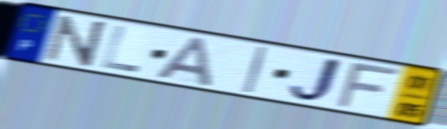A: (153, 35, 215, 89)
F: (333, 61, 404, 110)
I: (241, 44, 270, 95)
J: (285, 55, 346, 105)
L: (99, 24, 141, 75)
N: (43, 13, 110, 69)
